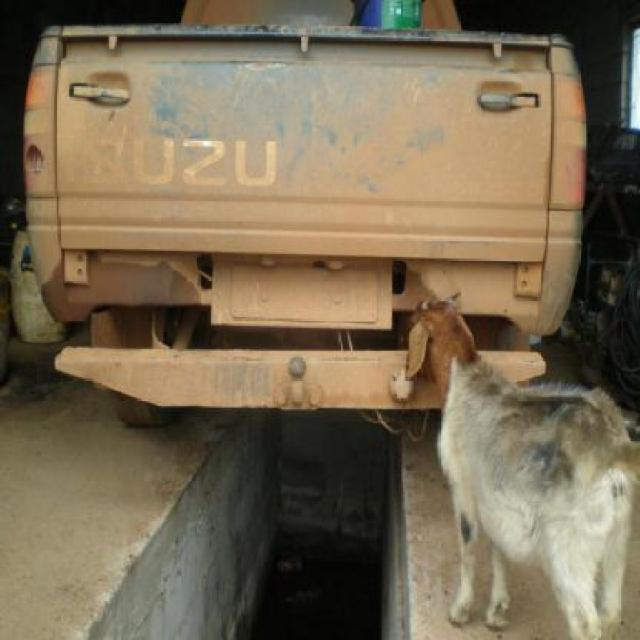truck: (19, 10, 567, 368)
